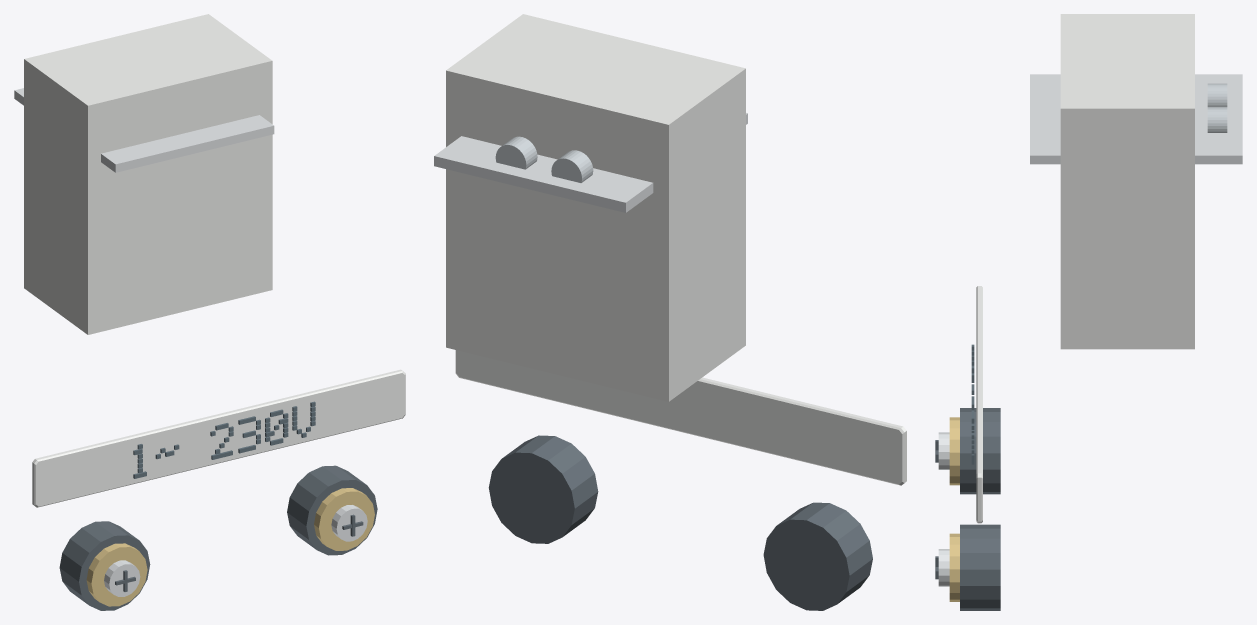
Rendered from acSupply.glb.
3 renders of one model, left to right at view 1: azimuth 30°, elevation 25°; view 2: azimuth 150°, elevation 25°; view 3: azimuth 270°, elevation 25°, orthographic. The views are drawn at different scales.
Visible parts, largest first — view 1: acSupply-preview; view 2: acSupply-preview; view 3: acSupply-preview.
Boxes of the visible parts, <box> form: acSupply-preview: <box>14,14,405,610</box>; acSupply-preview: <box>434,14,906,610</box>; acSupply-preview: <box>935,14,1242,610</box>.
Bounding box in the file's own units: 1.63 × 1.95 × 1.11.
